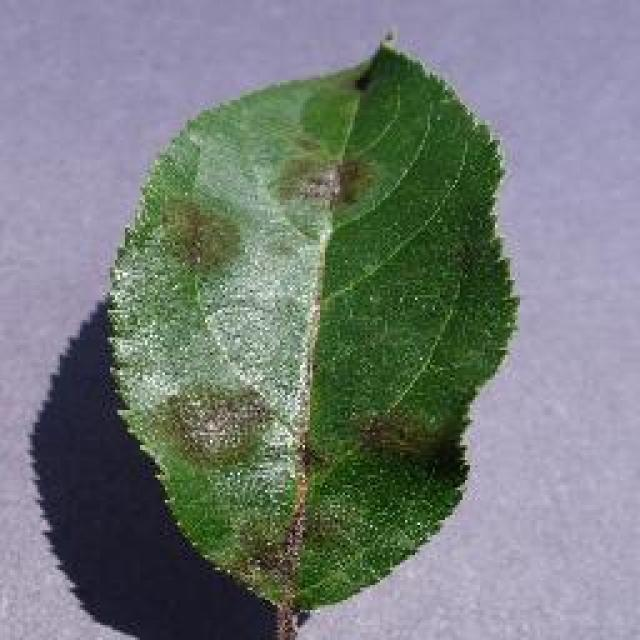apple scab disease: (100, 30, 520, 638)
